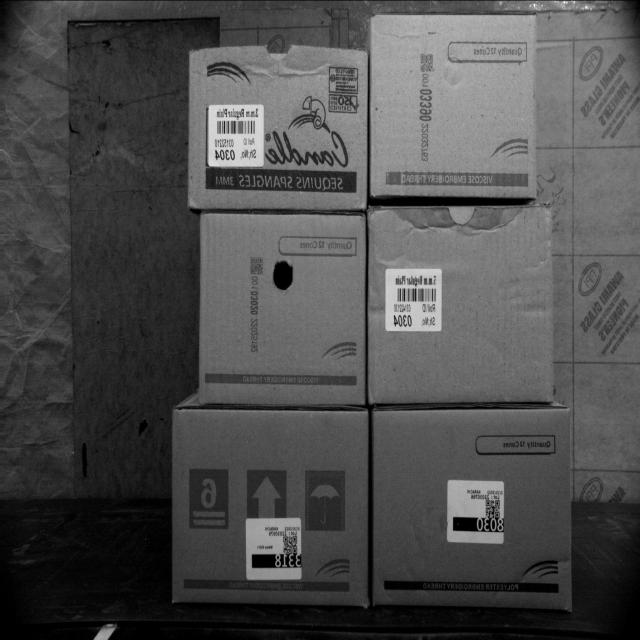cardboxes: (369, 408, 573, 609), (168, 408, 370, 609), (366, 206, 553, 404), (197, 210, 367, 408), (369, 12, 536, 201), (187, 48, 368, 214)
